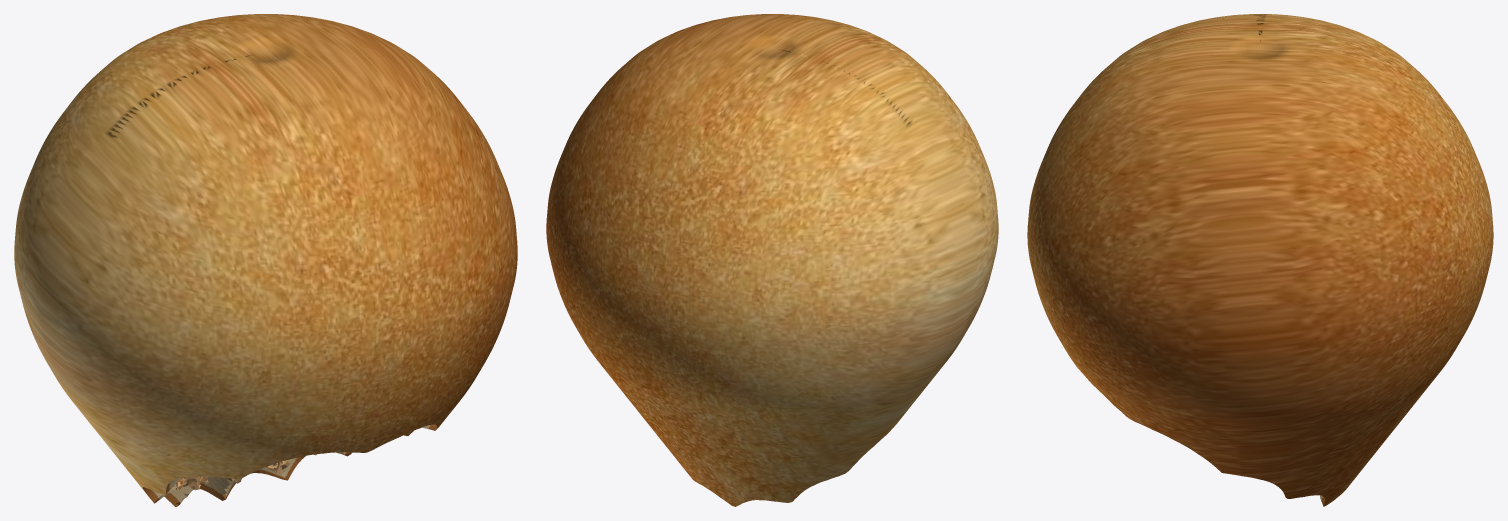
The model's file is item_coxinha_mordida.obj.
3 renders of one model, left to right at view 1: azimuth 30°, elevation 25°; view 2: azimuth 150°, elevation 25°; view 3: azimuth 270°, elevation 25°, orthographic. The views are drawn at different scales.
Bounding box in the file's own units: 101 × 107 × 102.
Materials: 4 (2 with a texture image).
